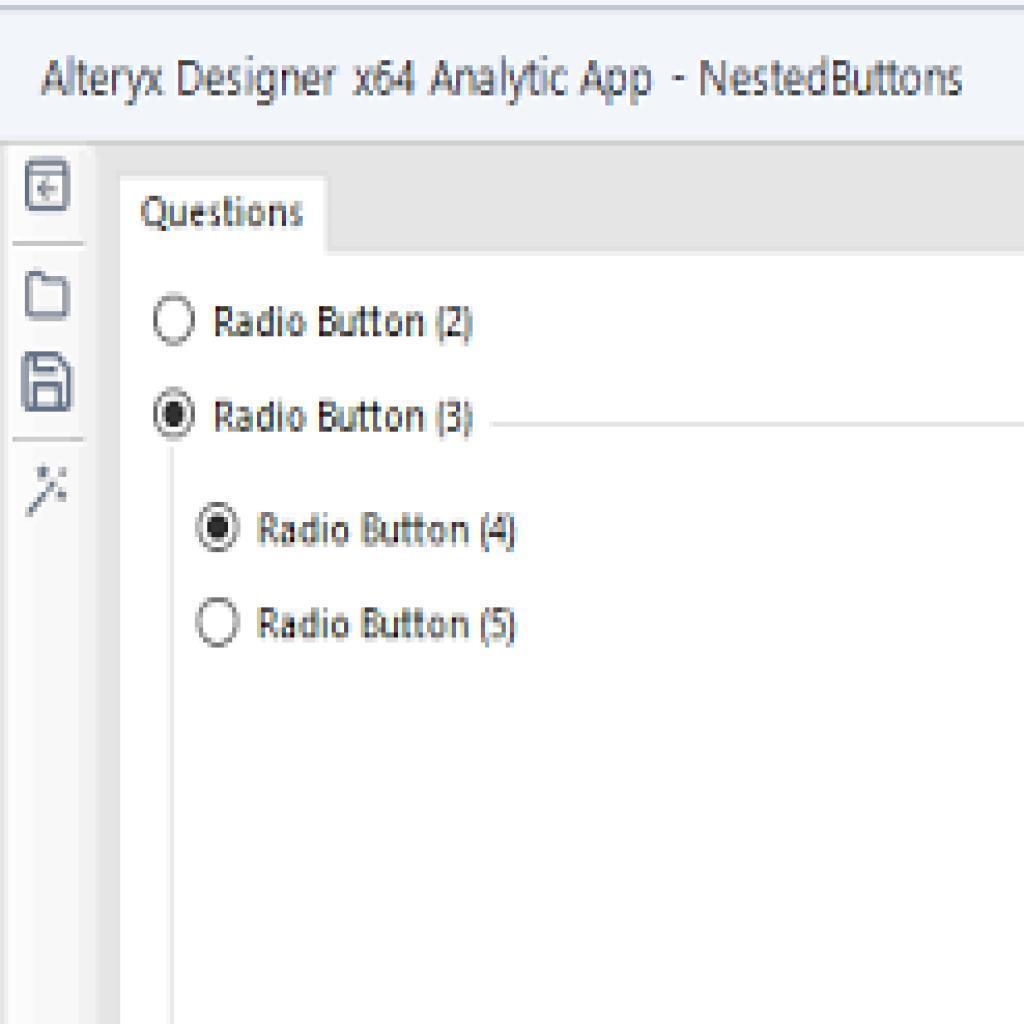icon: (20, 350, 83, 415), (24, 460, 81, 522), (24, 265, 76, 327), (25, 157, 74, 213)
label: (202, 293, 476, 347), (259, 502, 523, 557), (256, 600, 522, 653), (210, 390, 480, 439)
radio: (195, 491, 241, 559), (151, 290, 201, 352), (193, 591, 245, 649), (151, 384, 199, 446)
